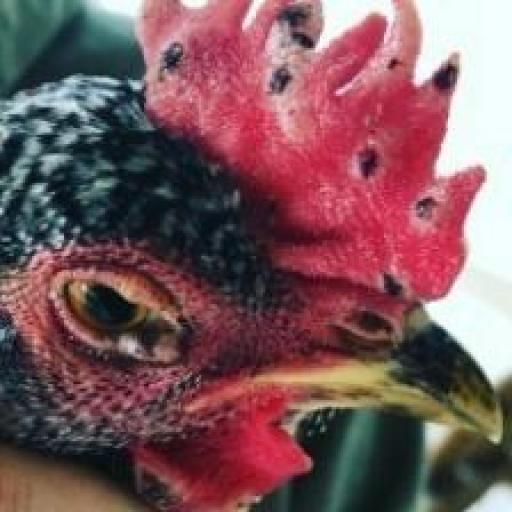disease: (142, 0, 484, 316), (20, 245, 230, 365)
